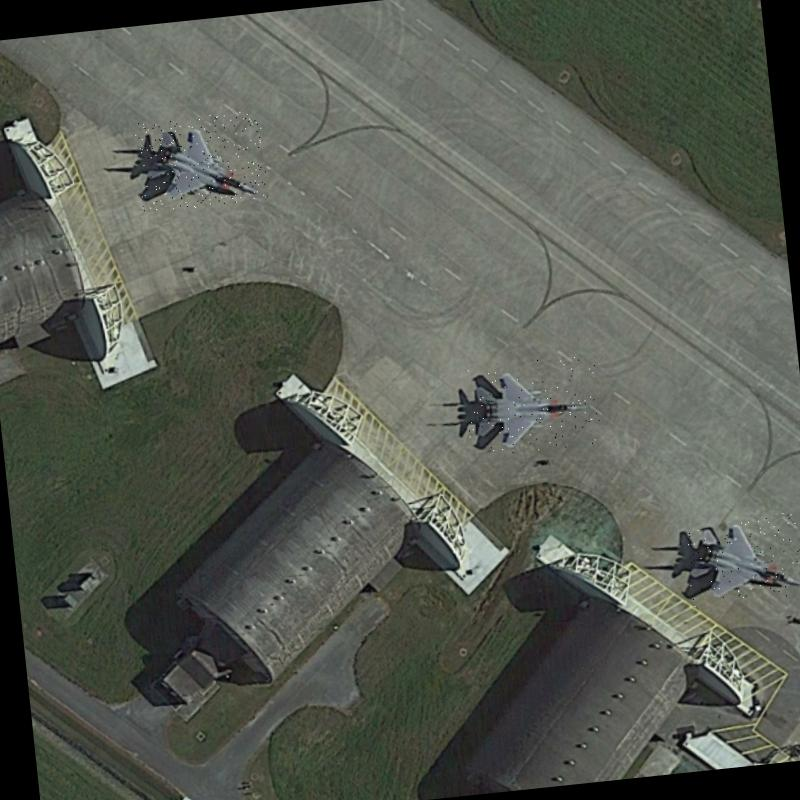A13: (462, 353, 603, 457), (133, 109, 268, 213), (683, 510, 800, 606)
